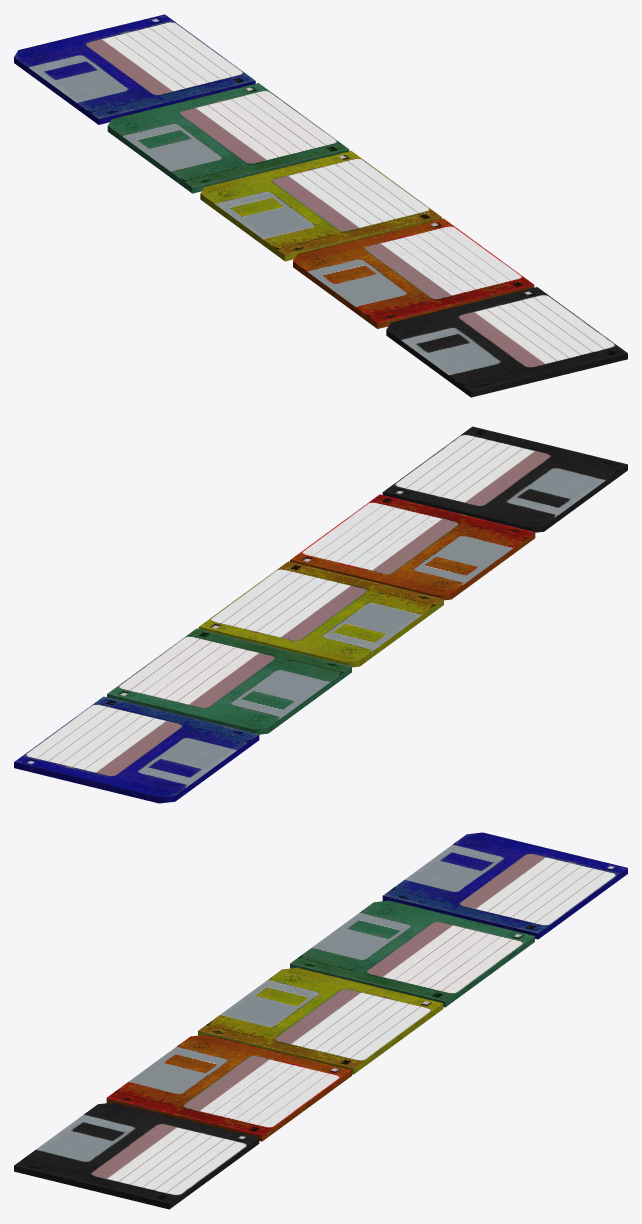
Rendered from FloppyDisks.fbx.
The picture shows the model from 3 angles, top to bottom: view 1: azimuth 30°, elevation 25°; view 2: azimuth 150°, elevation 25°; view 3: azimuth 330°, elevation 25°; orthographic projection.
Parts seen in each view (by area): view 1: Plane.004, Plane.003, Plane.001, Plane.002, Plane; view 2: Plane.003, Plane.002, Plane.004, Plane, Plane.001; view 3: Plane.004, Plane.003, Plane.001, Plane.002, Plane.
Part boxes in pixels (<box>): Plane.004: <box>386,287,627,397</box>; Plane.003: <box>14,14,255,124</box>; Plane.001: <box>293,218,534,328</box>; Plane.002: <box>107,83,349,193</box>; Plane: <box>200,151,441,261</box>; Plane.003: <box>14,696,259,803</box>; Plane.002: <box>107,628,351,734</box>; Plane.004: <box>382,426,627,532</box>; Plane: <box>198,561,443,667</box>; Plane.001: <box>290,494,535,600</box>; Plane.004: <box>14,1102,259,1209</box>; Plane.003: <box>382,832,627,939</box>; Plane.001: <box>106,1034,351,1141</box>; Plane.002: <box>290,900,534,1007</box>; Plane: <box>198,967,443,1074</box>.
Bounding box in the file's own units: 0.09 × 0.0033 × 0.4599.
